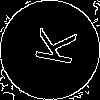K: (25, 25, 77, 67)
